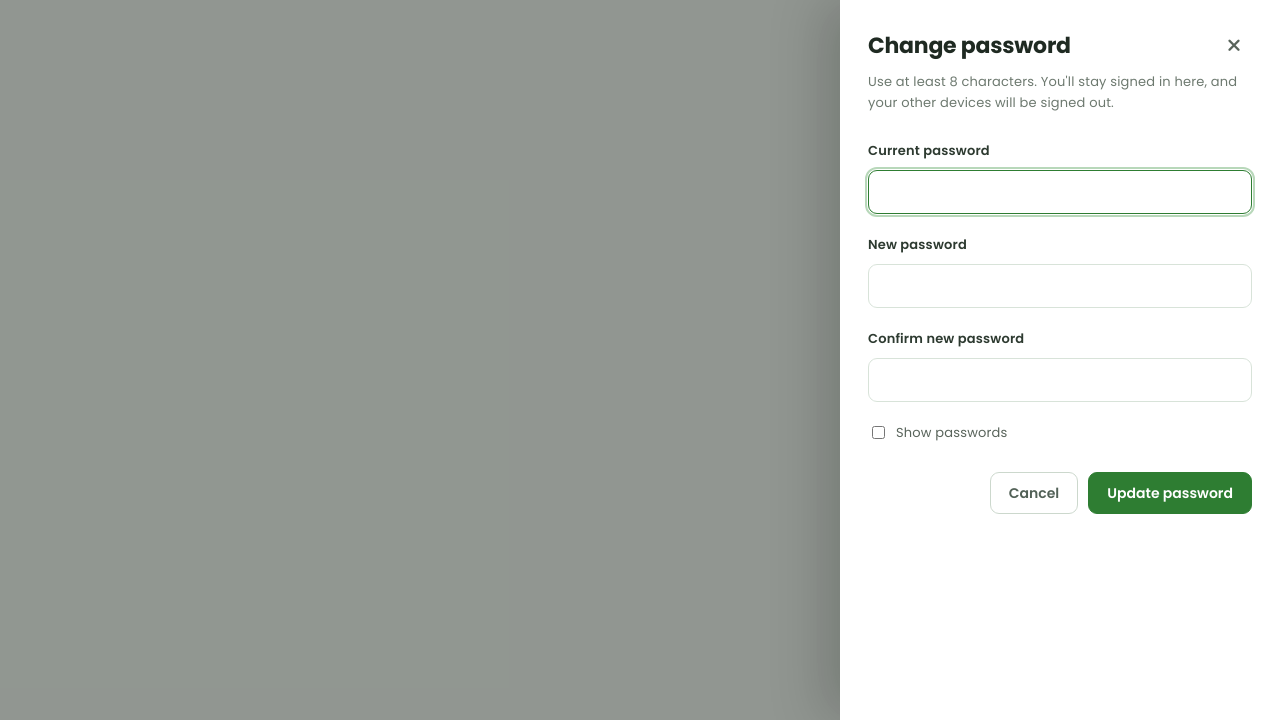
Scenario: ChangePasswordPanel › checks every field before sending anything
Click the button "Update password".
click(1170, 493)  # box [1088,472,1252,514]
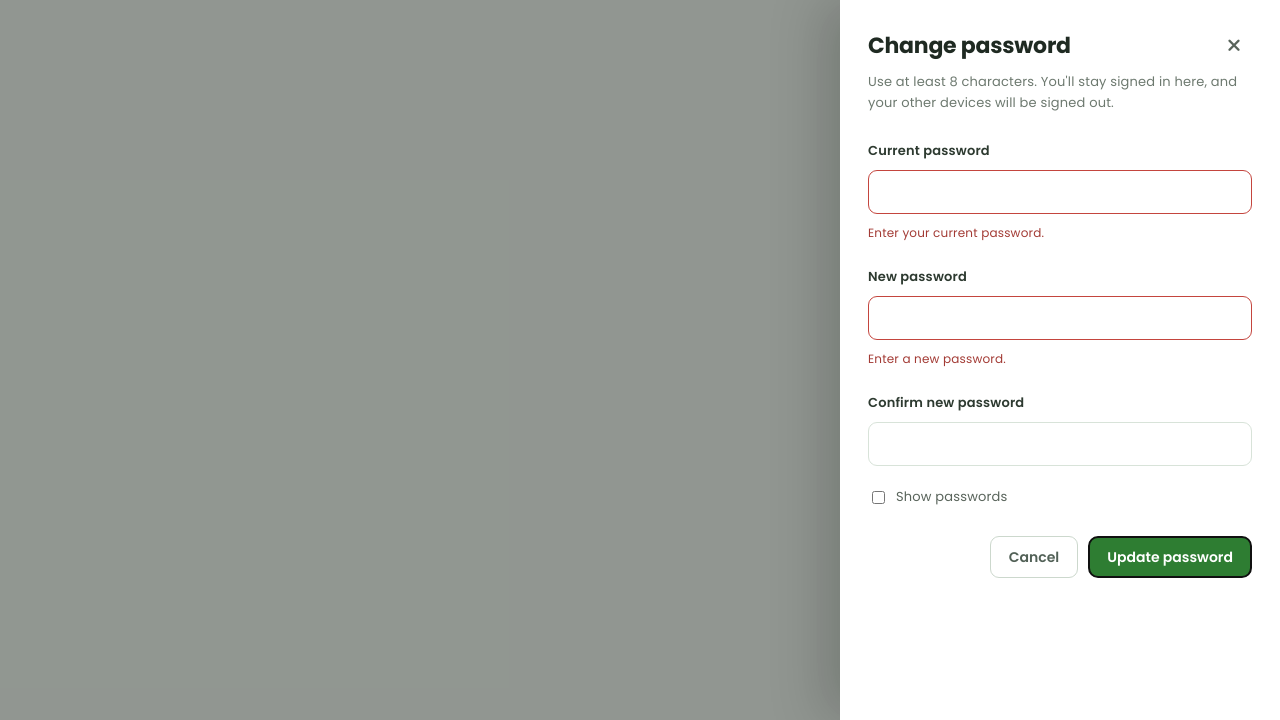
Now the text "Enter your current password." is shown, box [868,224,1044,241]
Now the text "Enter a new password." is shown, box [868,350,1006,367]
